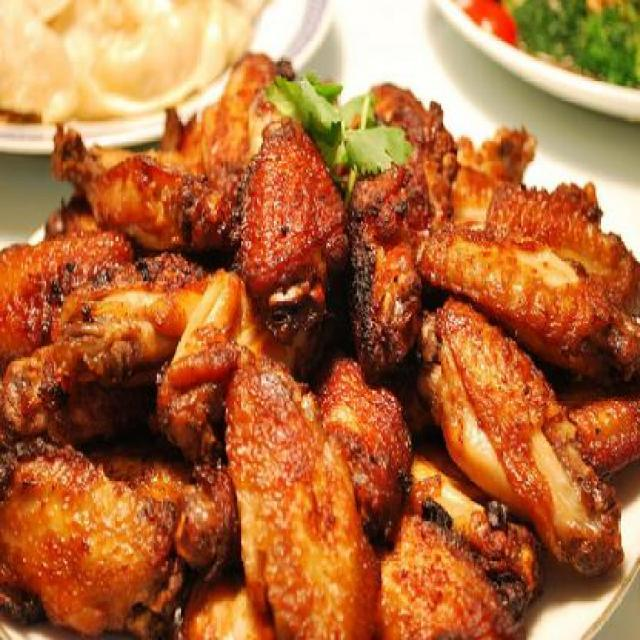Deep fried chicken wing: (16, 80, 627, 624)
